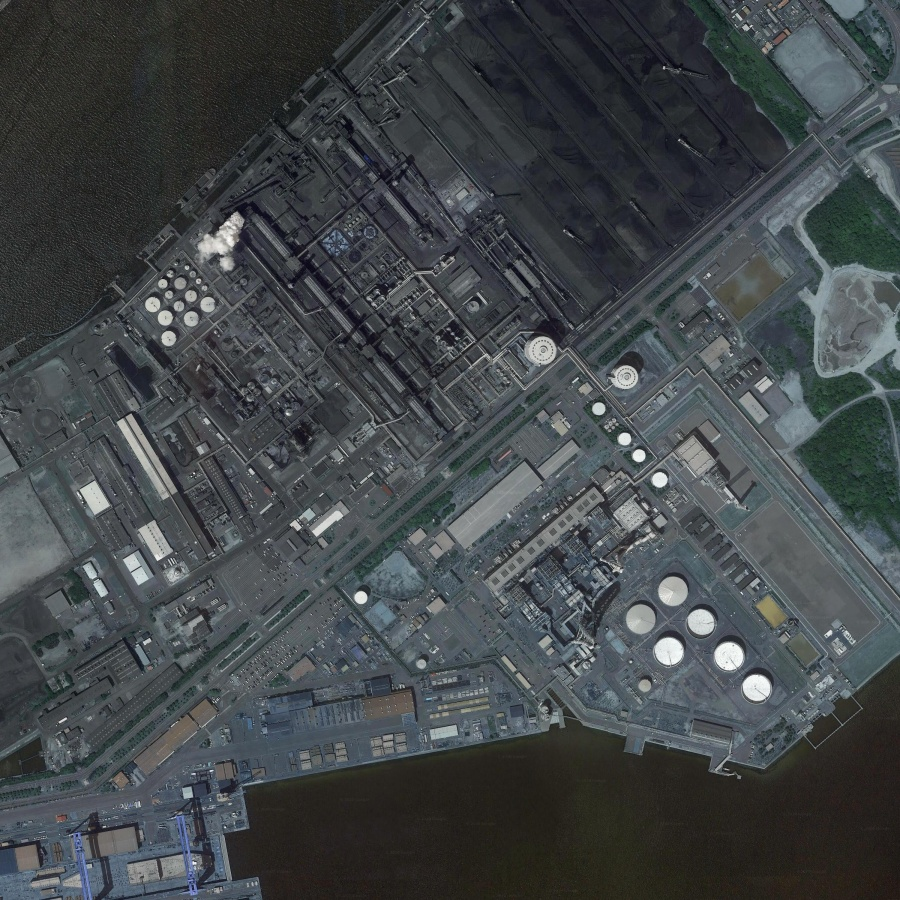PowerPlant: (494, 322, 794, 702)
